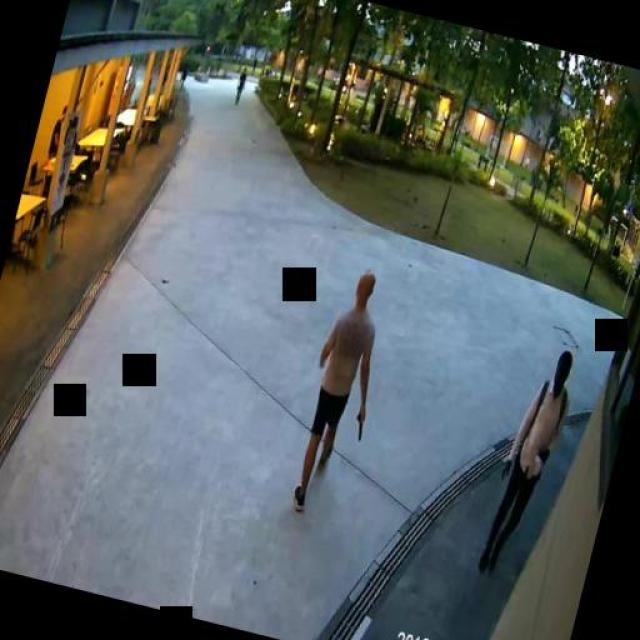gun: (350, 406, 368, 440)
